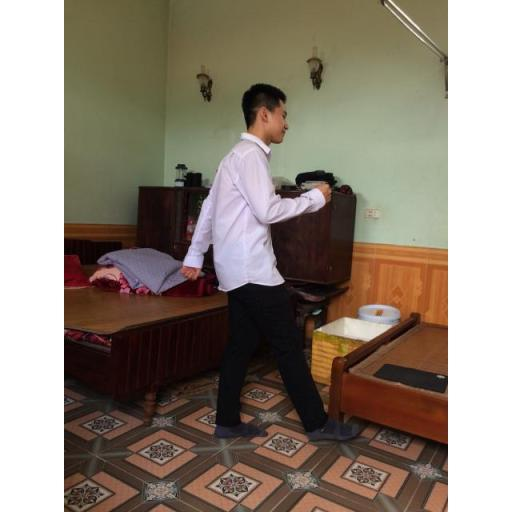Running: (178, 78, 369, 443)
